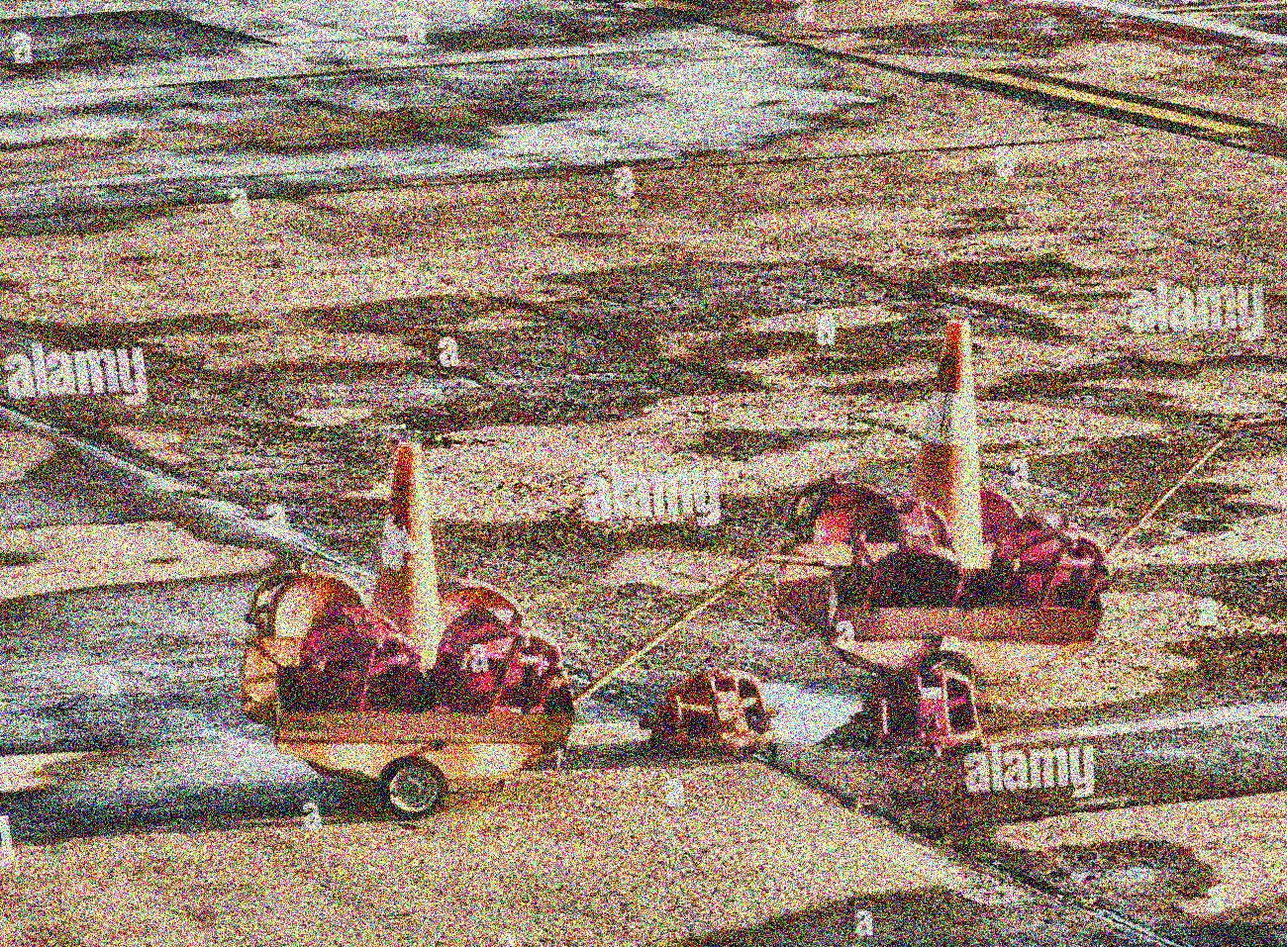chock: (426, 595, 572, 719), (634, 662, 793, 770), (292, 597, 429, 719), (838, 492, 970, 614), (989, 511, 1111, 617), (855, 662, 987, 756), (241, 556, 373, 642), (784, 465, 904, 552), (435, 568, 537, 652), (979, 477, 1032, 541)
wheel: (372, 753, 452, 824), (910, 647, 984, 707)
